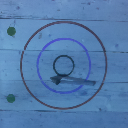Axe Tip: (50, 77, 61, 80)
